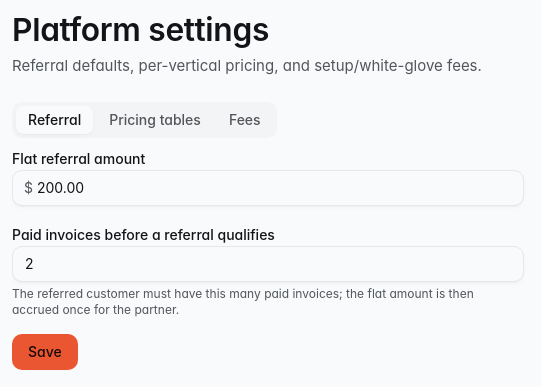
Platform settings — fees read failure › shows a human error with Retry in the Fees tab instead of an empty panel
The image size is (541, 387).
Click the tab "Fees": (245, 120) [217,106,273,134]
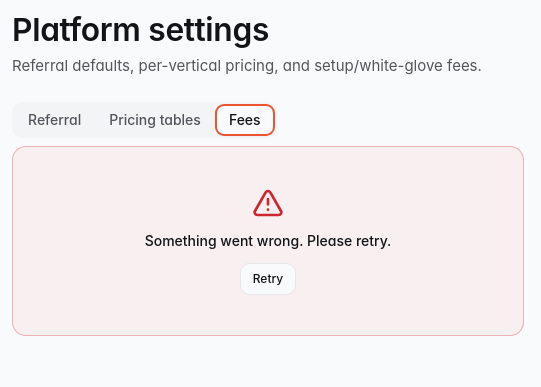
Now the text "Something went wrong. Please retry." is shown, box [145,231,391,251]
Now the button "Retry" is shown, box [240,263,296,295]
